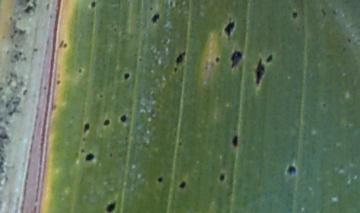tarspot: (255, 57, 265, 86), (231, 50, 243, 68), (225, 18, 235, 39), (176, 51, 186, 64), (286, 165, 298, 175), (82, 122, 91, 134), (151, 12, 160, 23), (106, 202, 115, 213), (232, 133, 238, 148), (290, 10, 299, 20), (85, 153, 94, 162), (24, 5, 33, 14), (319, 7, 327, 17), (102, 119, 111, 127), (58, 42, 68, 49), (178, 181, 186, 189), (96, 92, 104, 100), (124, 73, 131, 82), (90, 1, 97, 9), (120, 115, 127, 123), (136, 56, 144, 63), (320, 101, 327, 109), (219, 172, 225, 181), (267, 54, 273, 63), (78, 67, 84, 74), (54, 79, 61, 85), (172, 67, 179, 73), (80, 146, 86, 153), (346, 36, 352, 43), (157, 177, 163, 183), (215, 56, 220, 63)
